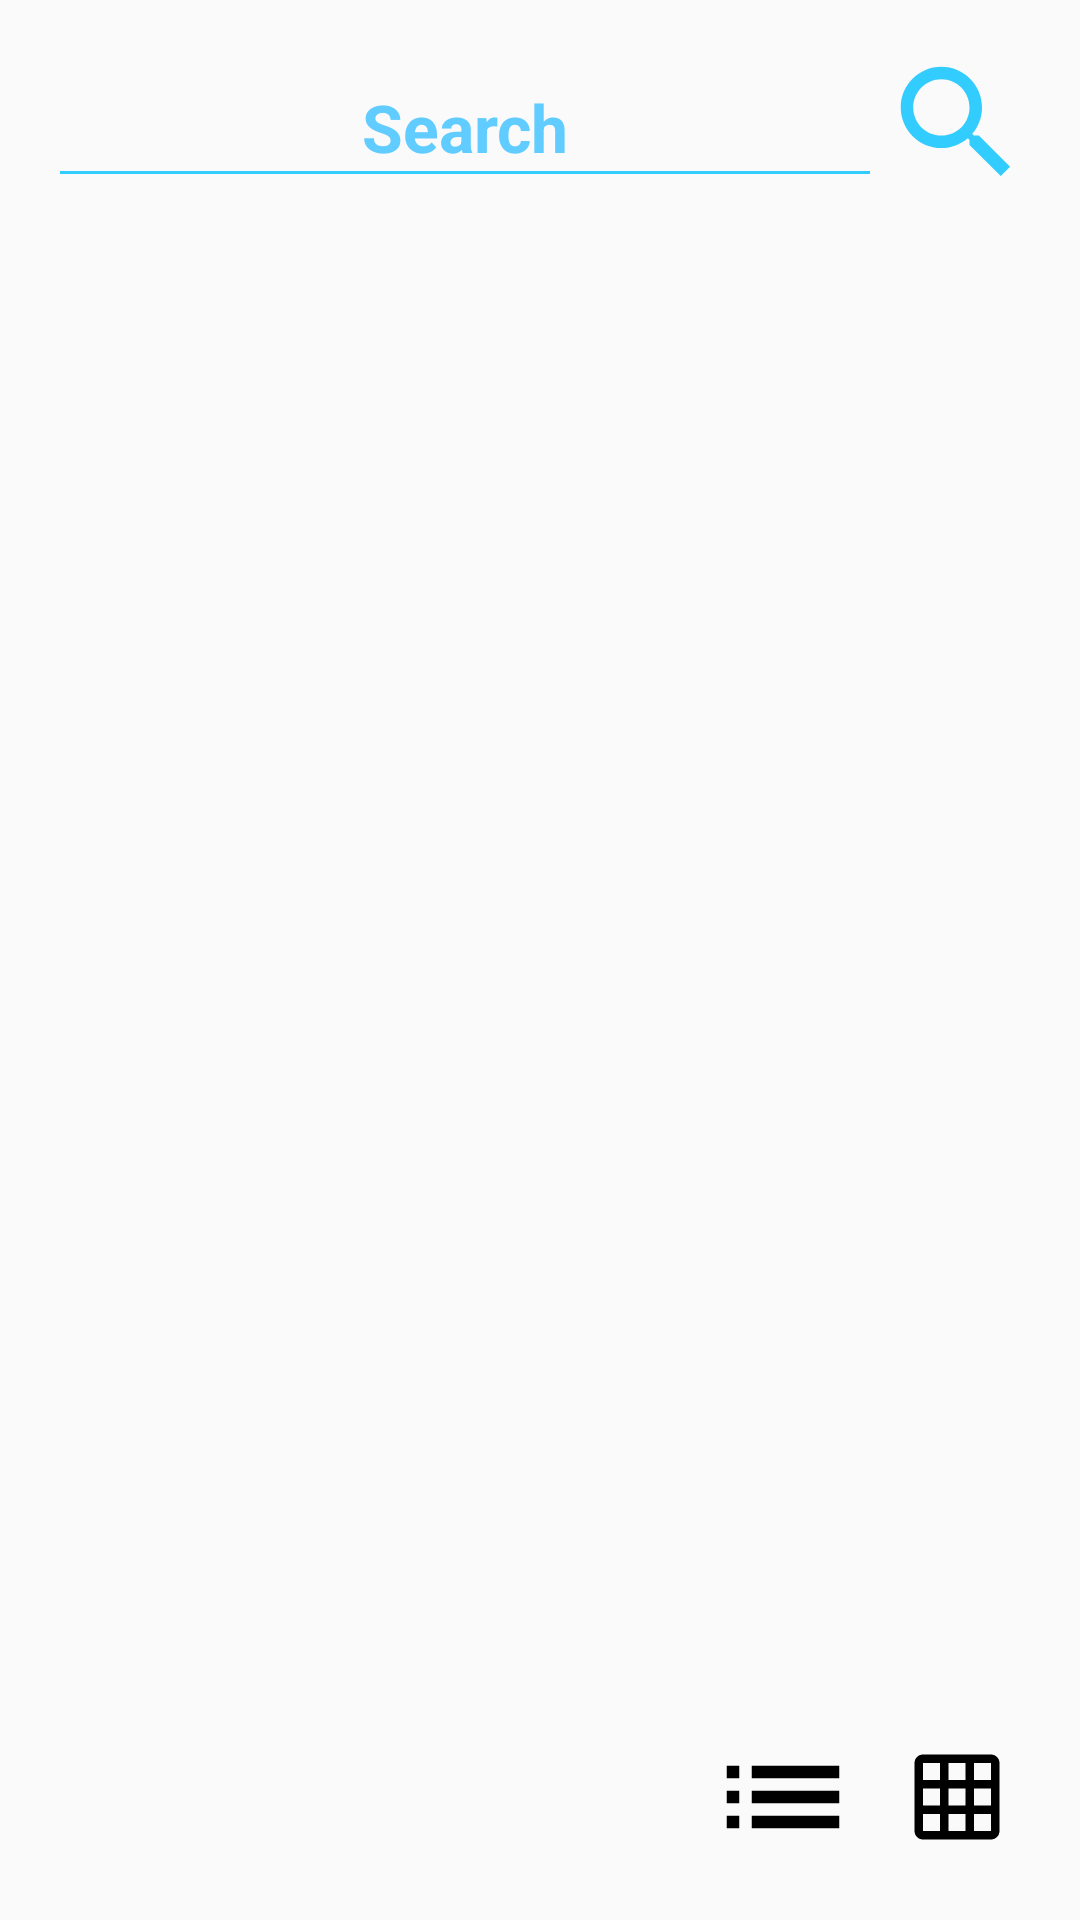

Screen size 1080 x 1920. Icon name, then its box in pixels as (x1,y1,x2,y2):
grid: (914,1754,1000,1840)
list: (726,1765,840,1829)
